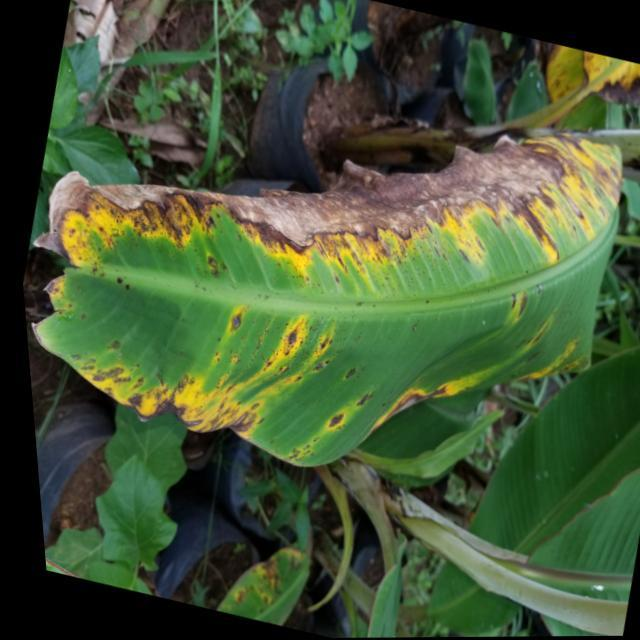Early_rust: (40, 123, 640, 469), (490, 13, 640, 139), (200, 530, 314, 625)
